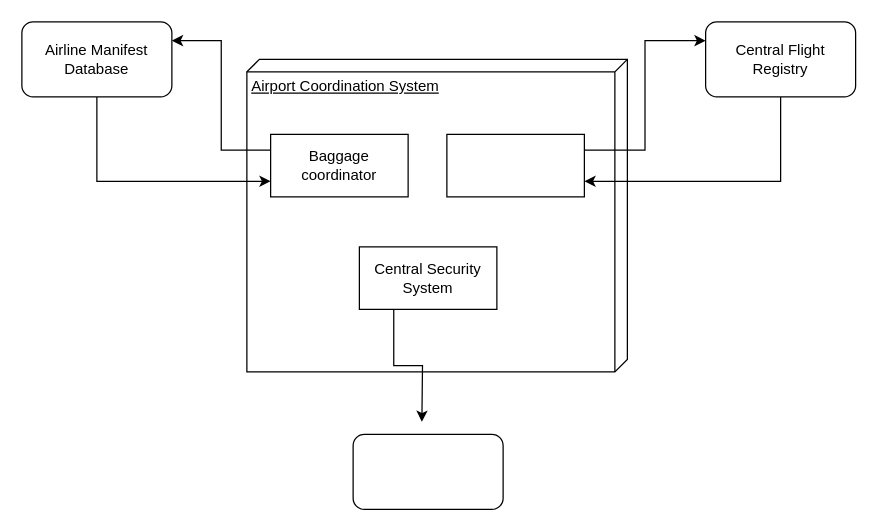
This 878x531 diagram has some shape labels left out. Each missing label, with the centre of its shape:
Air Controller: the point at 515,165
Police Services: the point at 427,471
